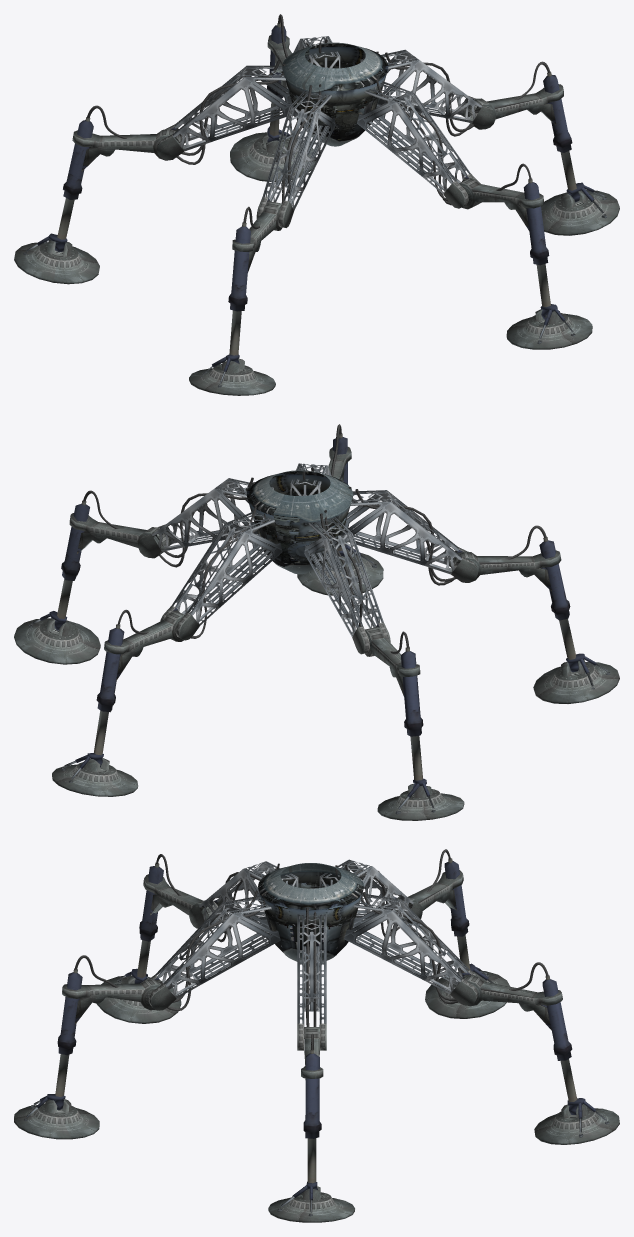
The model's file is LandingGearsNew.fbx.
3 renders of one model, top to bottom at view 1: azimuth 30°, elevation 25°; view 2: azimuth 150°, elevation 25°; view 3: azimuth 270°, elevation 25°, orthographic.
Parts seen in each view (by area): view 1: LandingGearsNew; view 2: LandingGearsNew; view 3: LandingGearsNew.
Boxes of the visible parts, x1,y1,x2,y2 form: LandingGearsNew: (14,14,619,395); LandingGearsNew: (14,424,619,820); LandingGearsNew: (14,849,619,1222).
Bounding box in the file's own units: 2842 × 1182 × 2899.
